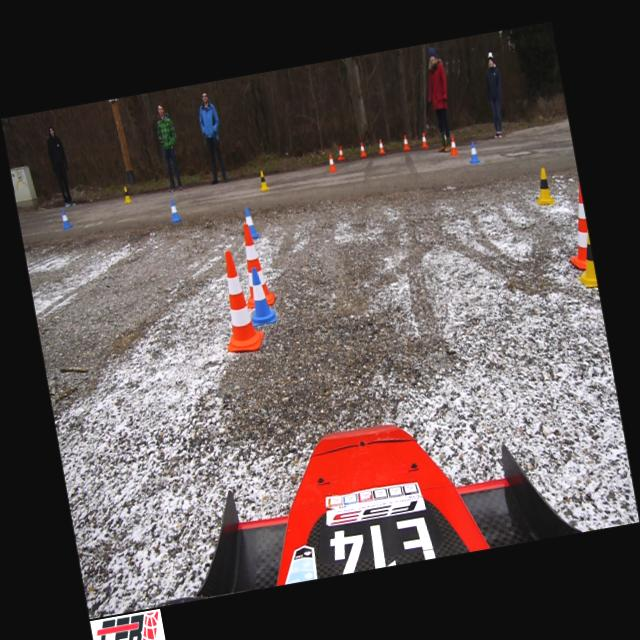blue_cone: (244, 266, 274, 321), (242, 205, 258, 239), (167, 198, 182, 222), (59, 208, 72, 229), (467, 141, 479, 163)
large_orange_cone: (211, 246, 266, 354), (234, 222, 276, 308), (556, 178, 594, 272)
orange_cone: (447, 135, 458, 156), (326, 152, 337, 172), (401, 134, 410, 151), (358, 142, 367, 158), (376, 138, 385, 154), (419, 132, 428, 148), (336, 145, 344, 160)
yellow_cone: (570, 230, 597, 288), (531, 166, 555, 208), (256, 170, 268, 191), (121, 184, 132, 203)
